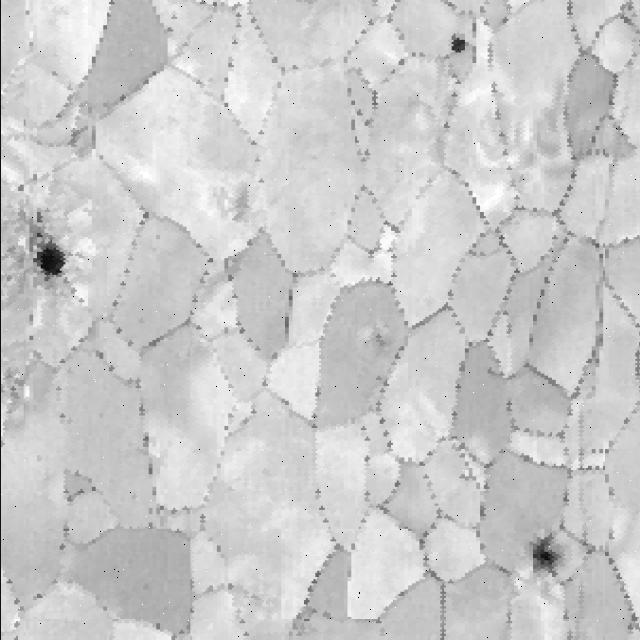good_void: (10, 209, 76, 285), (523, 525, 573, 591), (206, 173, 255, 235), (365, 320, 395, 355), (442, 36, 468, 60), (167, 13, 178, 22)
